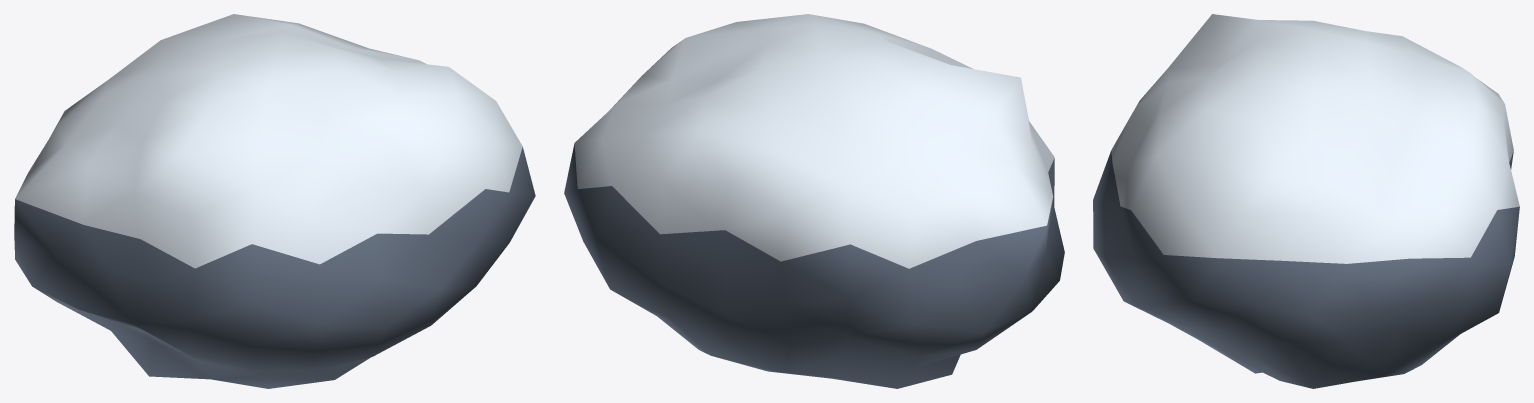
The model's file is roca_helada.obj.
The picture shows the model from 3 angles, left to right: view 1: azimuth 30°, elevation 25°; view 2: azimuth 150°, elevation 25°; view 3: azimuth 270°, elevation 25°; orthographic projection.
Parts seen in each view (by area): view 1: Roca_Helada; view 2: Roca_Helada; view 3: Roca_Helada.
Part boxes in pixels (box(x1,y1,x2,y2)): Roca_Helada: box(14, 14, 535, 388); Roca_Helada: box(564, 14, 1064, 388); Roca_Helada: box(1093, 14, 1519, 388).
Size of the model in its own units: 1.34 by 0.8301 by 1.04.
